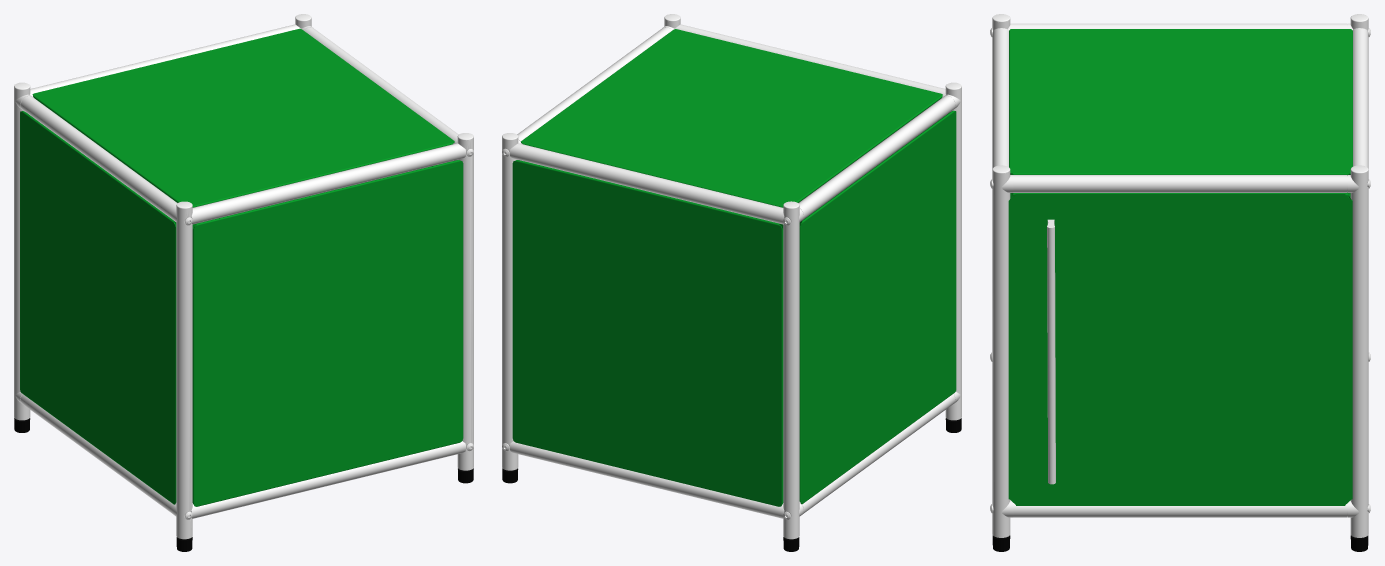
The model's file is 40x40x40-2-4-green_optimized_optimized.glb.
The picture shows the model from 3 angles, left to right: view 1: azimuth 30°, elevation 25°; view 2: azimuth 150°, elevation 25°; view 3: azimuth 270°, elevation 25°; orthographic projection. The views are drawn at different scales.
Parts seen in each view (by area): view 1: 直角鐵板-40x40-5 - 零件, 反-鐵管-40-354..4-1 - 零件, 圓形腳+調整器-1 - 零件; view 2: 直角鐵板-40x40-5 - 零件, 反-鐵管-40-354..4-1 - 零件, 圓形腳+調整器-1 - 零件; view 3: 直角鐵板-40x40-5 - 零件, 反-鐵管-40-354..4-1 - 零件, 圓形腳+調整器-1 - 零件.
Part boxes in pixels (x1,y1,x2,y2): 直角鐵板-40x40-5 - 零件: [20, 28, 463, 506]; 反-鐵管-40-354..4-1 - 零件: [14, 14, 473, 539]; 圓形腳+調整器-1 - 零件: [14, 418, 473, 551]; 直角鐵板-40x40-5 - 零件: [512, 29, 956, 506]; 反-鐵管-40-354..4-1 - 零件: [502, 14, 961, 539]; 圓形腳+調整器-1 - 零件: [502, 418, 961, 551]; 直角鐵板-40x40-5 - 零件: [1008, 29, 1352, 505]; 反-鐵管-40-354..4-1 - 零件: [990, 14, 1370, 537]; 圓形腳+調整器-1 - 零件: [992, 535, 1368, 551].
Bounding box in the file's own units: 0.4203 × 0.4453 × 0.4035.
